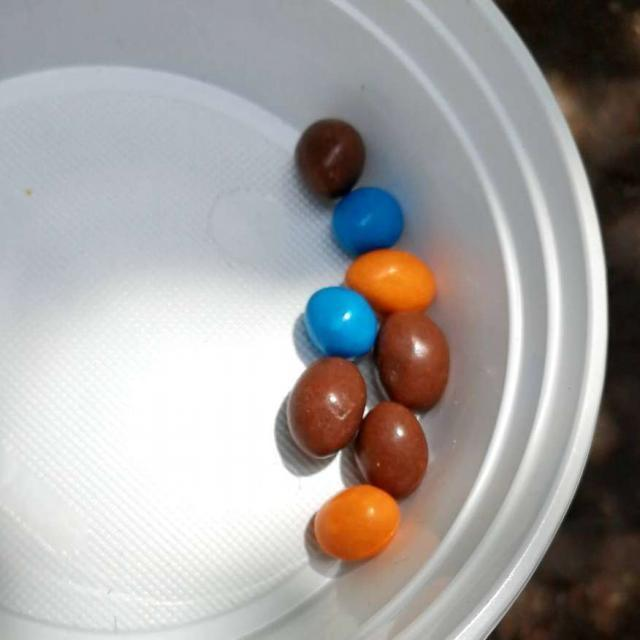m-m-s: (262, 117, 437, 564)
